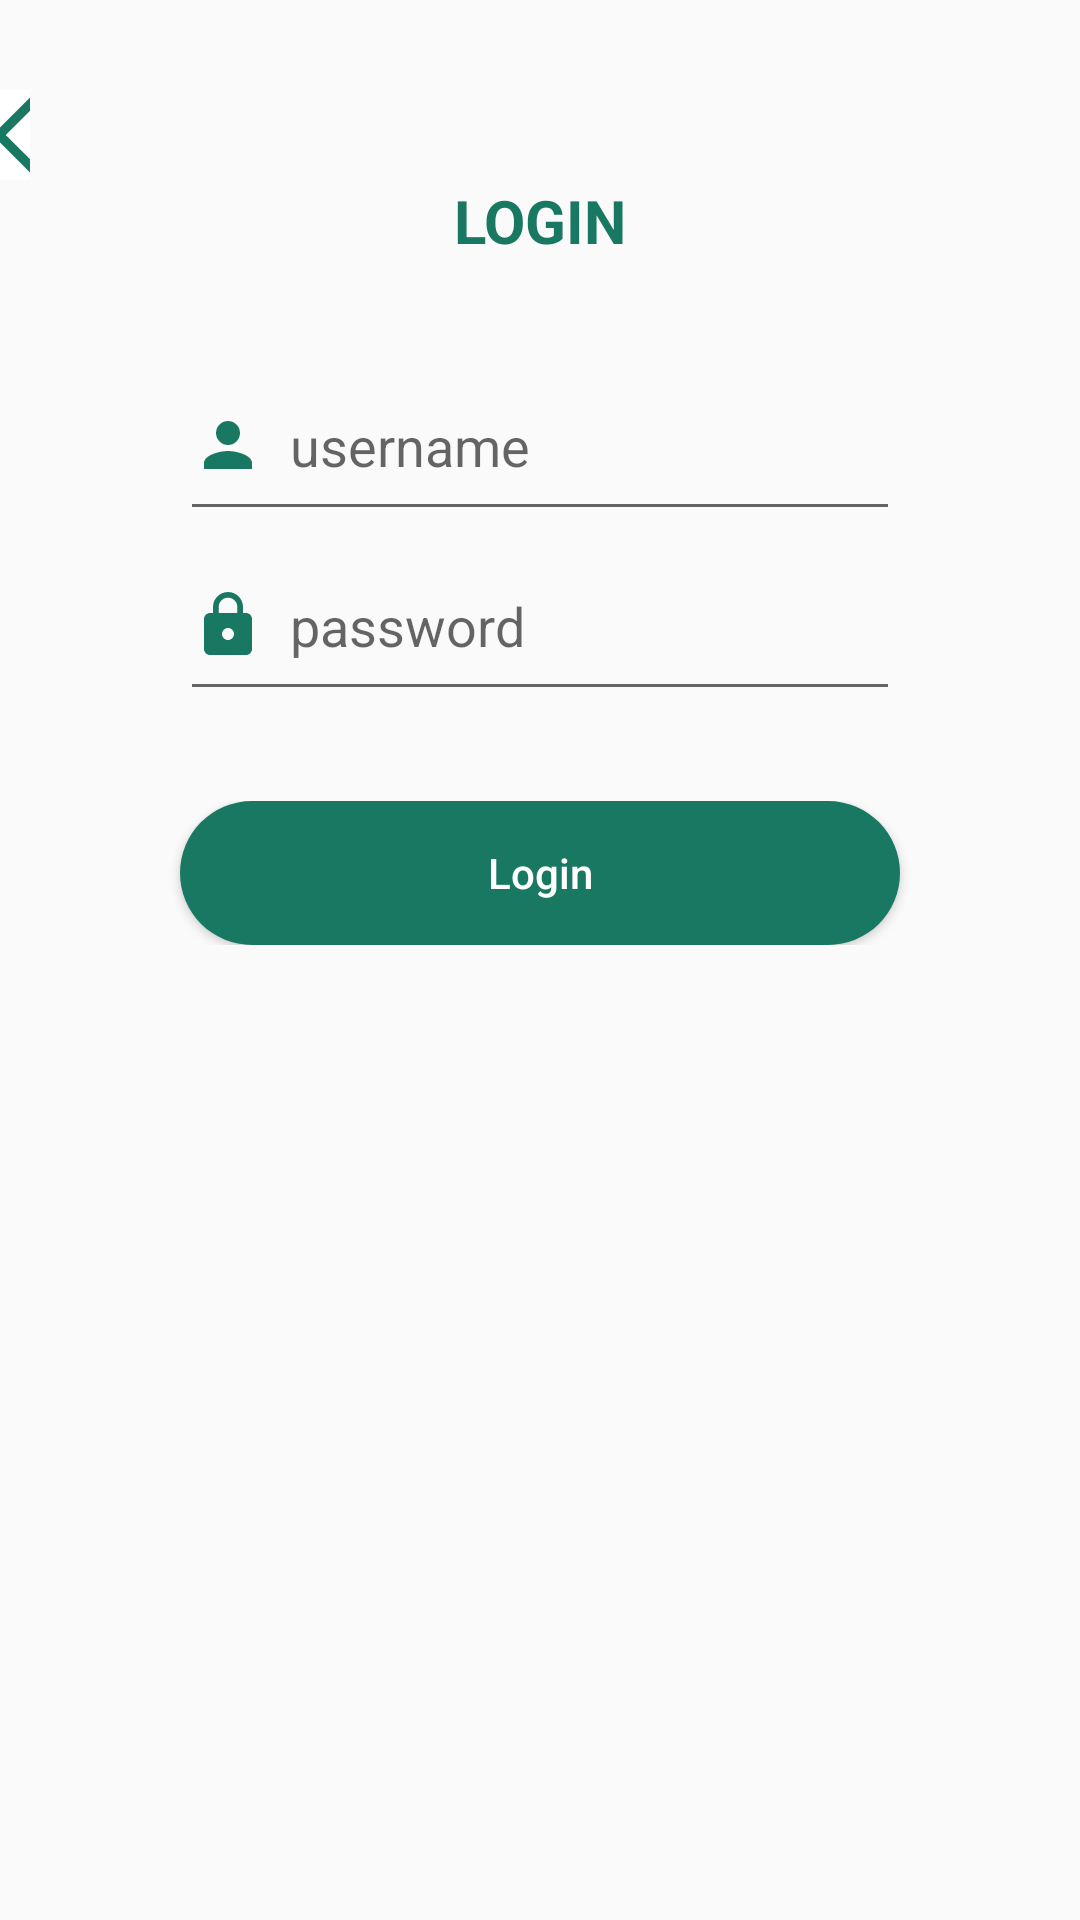

Where to tap for icons on this 1080x1920 app screen, as (x,y):
arrow: (15,135)
